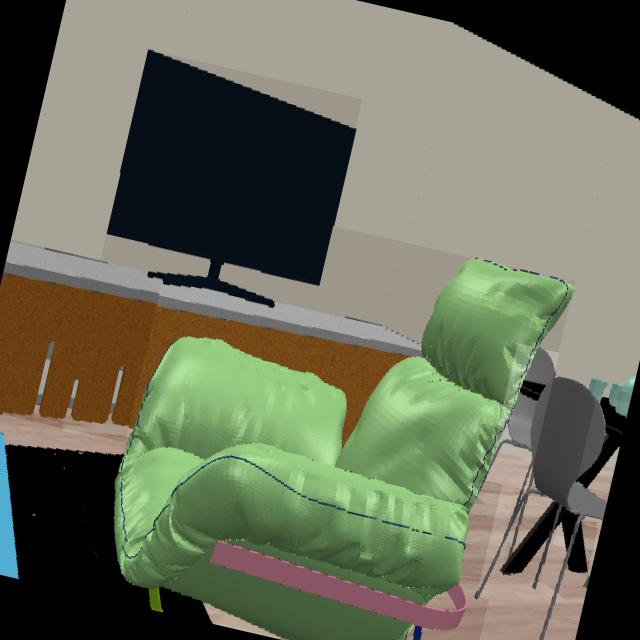cabinet: (0, 243, 421, 440)
chair: (529, 377, 605, 640), (486, 349, 555, 479), (477, 476, 530, 597)
monitor: (107, 50, 354, 305)
sofa: (115, 262, 572, 640)
table: (577, 397, 626, 487), (501, 503, 557, 575), (567, 524, 588, 573), (557, 508, 577, 548)
